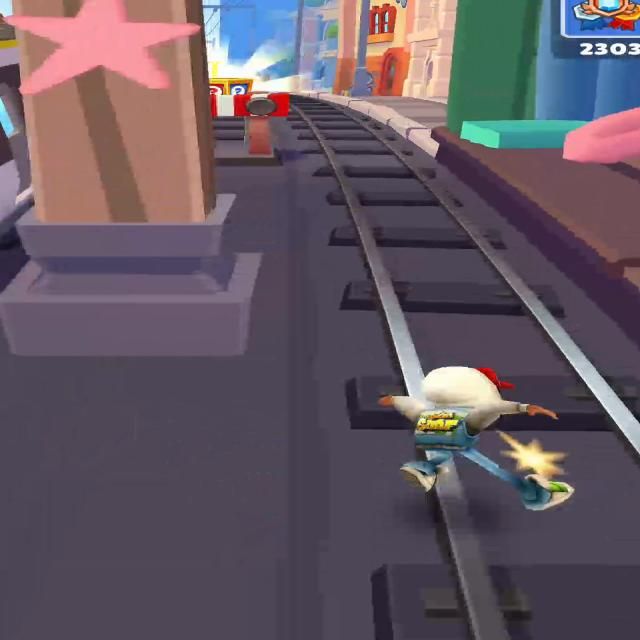block pillar: (0, 0, 261, 355)
blocker: (211, 92, 289, 156)
